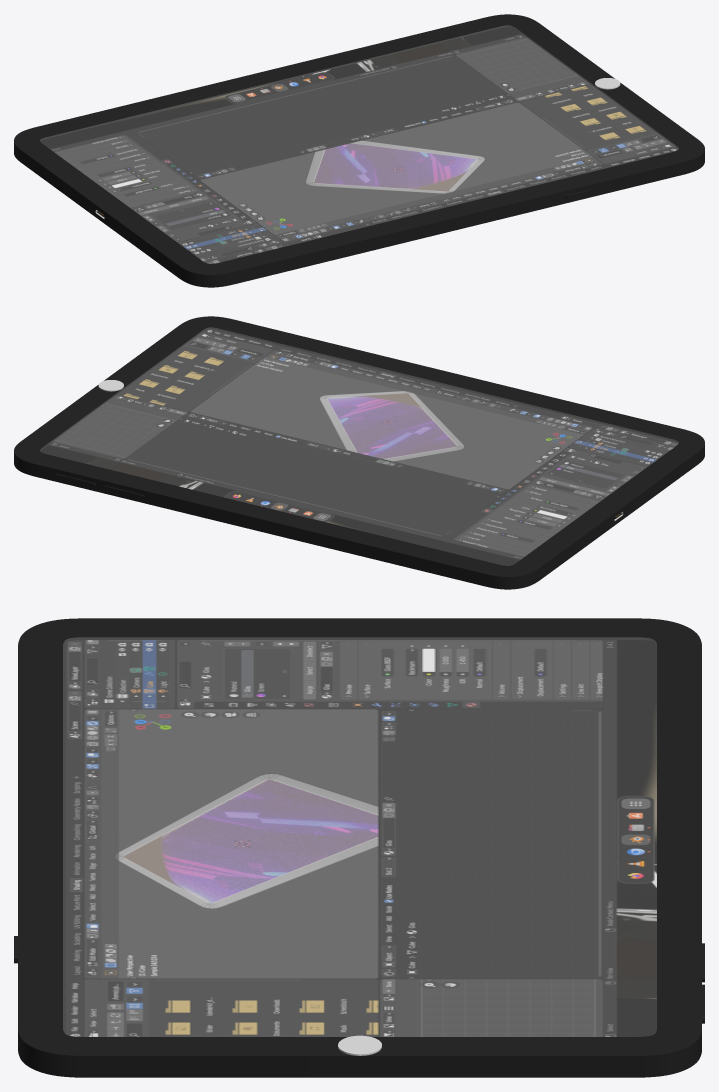
File: Tablet.fbx
3 views of the same model, one above another, from view 1: azimuth 30°, elevation 25°; view 2: azimuth 150°, elevation 25°; view 3: azimuth 270°, elevation 25° (orthographic). The views are drawn at different scales.
Visible parts, largest first — view 1: Object_5, Object_6, Object_4; view 2: Object_5, Object_6, Object_4; view 3: Object_5, Object_6, Object_4, Cylinder.
Part boxes in pixels (x1,y1,x2,y2): Object_5: (40, 25, 678, 263); Object_6: (40, 27, 678, 263); Object_4: (14, 14, 704, 287); Object_5: (40, 327, 678, 565); Object_6: (40, 329, 678, 565); Object_4: (14, 316, 704, 589); Object_5: (63, 637, 656, 1036); Object_6: (63, 640, 656, 1036); Object_4: (14, 618, 704, 1077); Cylinder: (338, 1035, 381, 1055).
Bounding box in the file's own units: 2 × 0.0497 × 1.33.
Materials: 6 (1 with a texture image).
